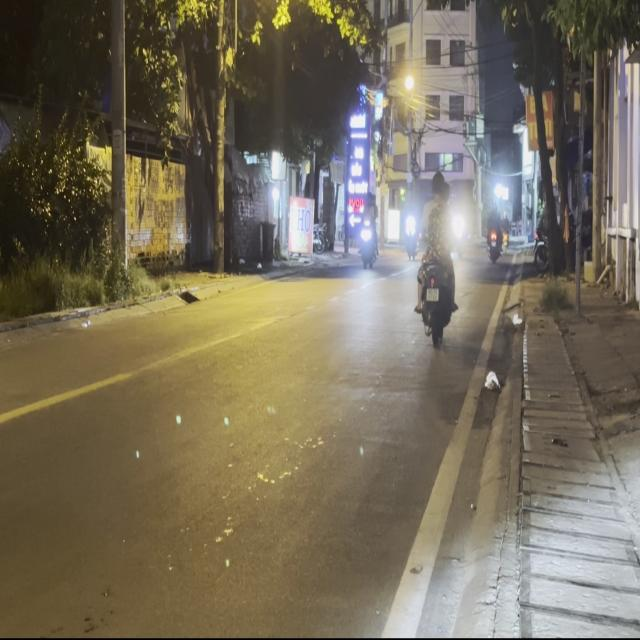licenseplate: (412, 167, 459, 345)
motorcyclist: (430, 170, 450, 200)
nohelmet: (426, 287, 438, 300)
